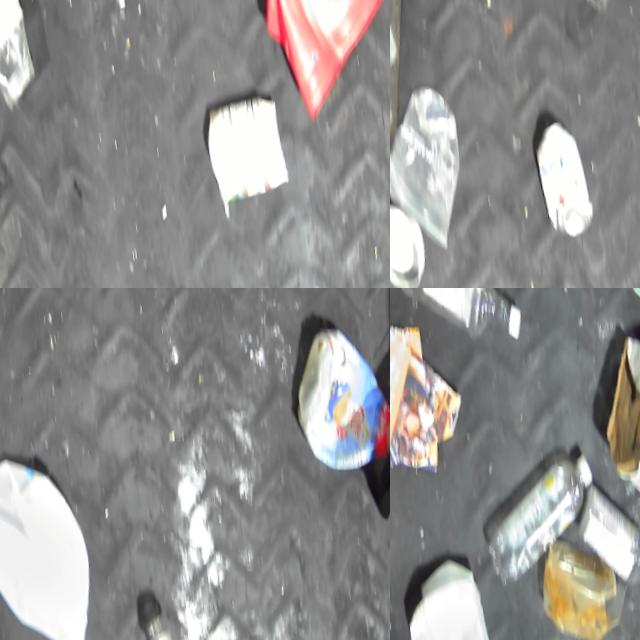can: (527, 103, 603, 237), (390, 187, 435, 288)
milk_jug: (0, 434, 111, 640), (400, 539, 516, 640)
non_white_jug: (247, 0, 390, 125)
plastic_bottle: (473, 435, 615, 594), (390, 288, 528, 354)
